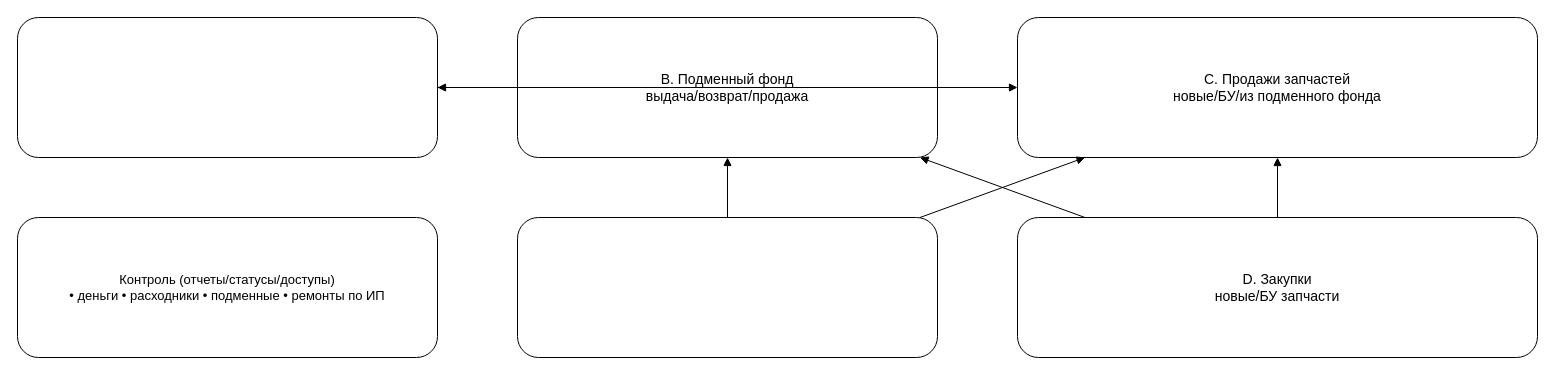
Image size: 1555x375. Some labels were removed from this diagram. Here are the shapes that lost their labels. From the top down, the centre of each, then its label:
(227,87): A. Ремонт клиентских запчастей (ядро)
(727,287): E. Закупка БУ аппаратов → Разбор на запчасти
